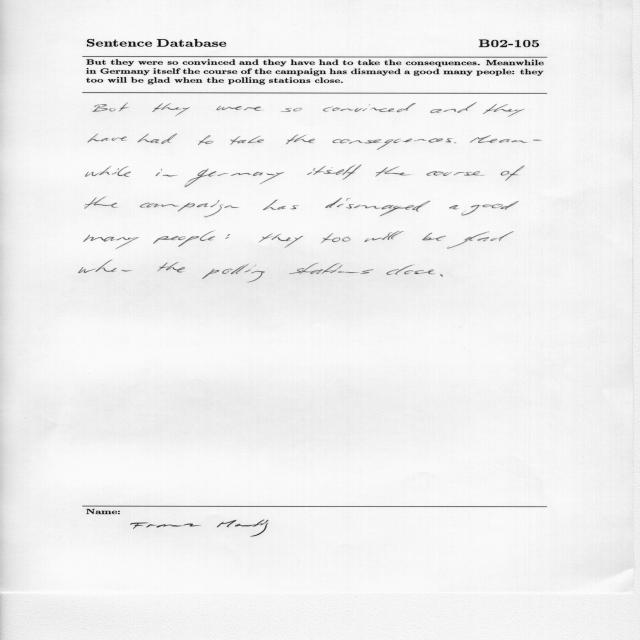word: (326, 198, 431, 217), (185, 169, 284, 187), (140, 200, 239, 217), (332, 138, 453, 150), (447, 231, 514, 249), (202, 265, 265, 283), (153, 231, 215, 247), (289, 263, 374, 274), (323, 103, 416, 112), (461, 201, 519, 215), (307, 165, 361, 180), (84, 235, 139, 249), (79, 260, 131, 273), (259, 233, 304, 248), (470, 135, 542, 143), (483, 104, 525, 117), (85, 166, 131, 177), (152, 103, 190, 116), (386, 265, 435, 275), (430, 103, 477, 113), (365, 231, 404, 242), (85, 197, 118, 209), (263, 199, 299, 210), (138, 134, 177, 144), (501, 165, 525, 181), (376, 167, 411, 177), (230, 136, 264, 146), (93, 103, 129, 112), (88, 134, 127, 142), (286, 135, 315, 145), (427, 171, 485, 176), (321, 233, 350, 243), (157, 262, 185, 272), (216, 106, 263, 111), (422, 233, 446, 241), (156, 169, 177, 177), (198, 135, 214, 145), (281, 108, 302, 112), (449, 205, 459, 209), (226, 234, 231, 239), (440, 274, 443, 276), (454, 142, 457, 143)
